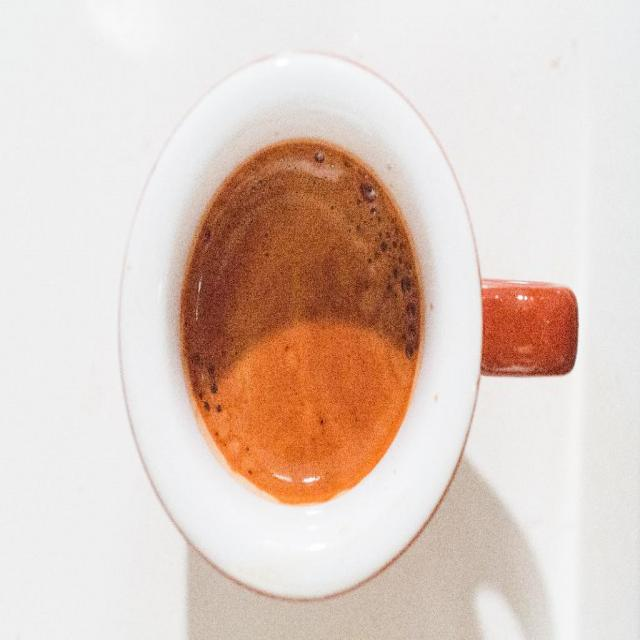Coffee: (176, 138, 420, 502)
Tea: (177, 143, 421, 507)
